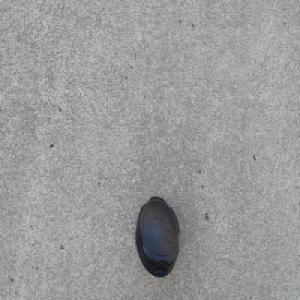FuelCap: (133, 194, 180, 281)
